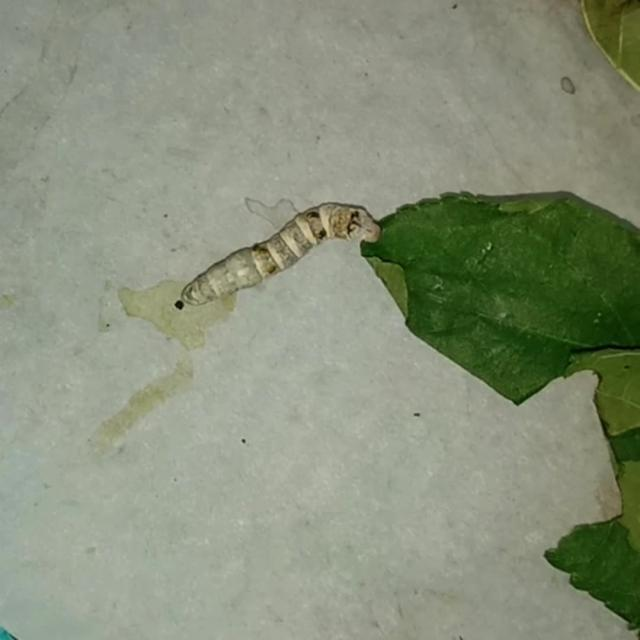Grasserie: (158, 174, 414, 347)
